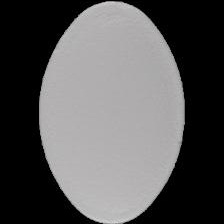58118-0082: (0, 0, 224, 224)
